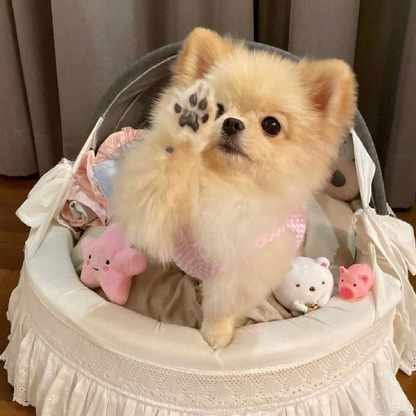Pomeranian: (107, 28, 352, 331)
